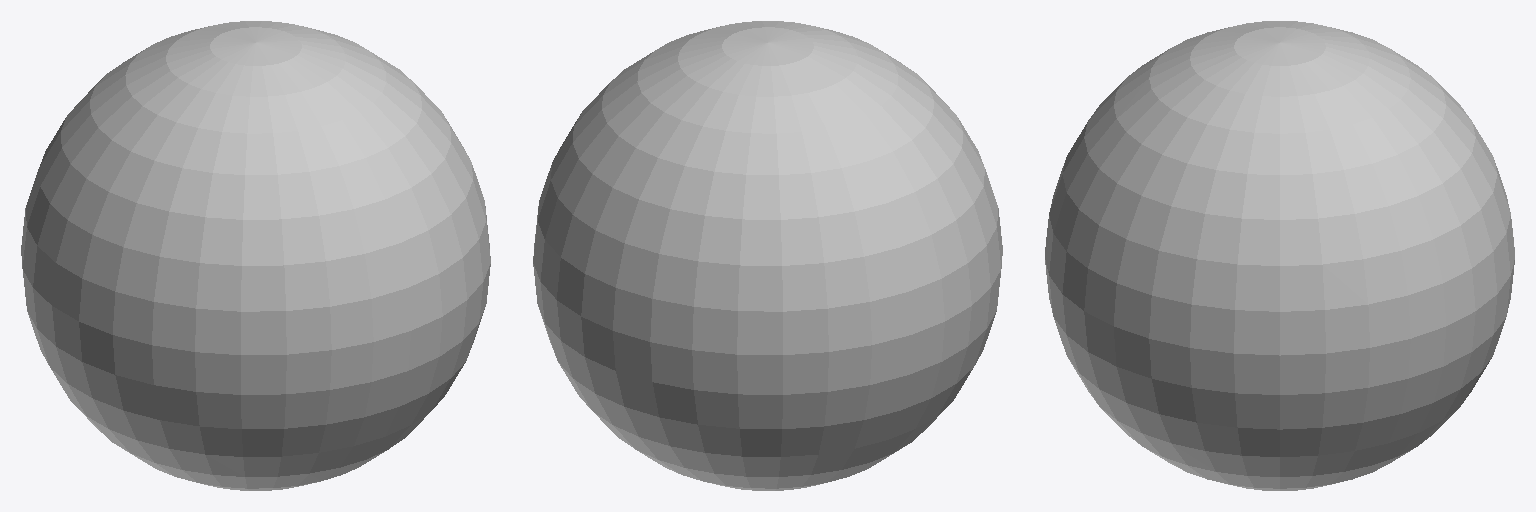
The model's file is sph.obj.
3 renders of one model, left to right at view 1: azimuth 30°, elevation 25°; view 2: azimuth 150°, elevation 25°; view 3: azimuth 270°, elevation 25°, orthographic.
Visible parts, largest first — view 1: Sphere01; view 2: Sphere01; view 3: Sphere01.
Part boxes in pixels (bbox=[...]): Sphere01: bbox=[21, 21, 490, 490]; Sphere01: bbox=[533, 21, 1002, 490]; Sphere01: bbox=[1045, 21, 1514, 490].
Bounding box in the file's own units: 5.53 × 5.53 × 5.53.